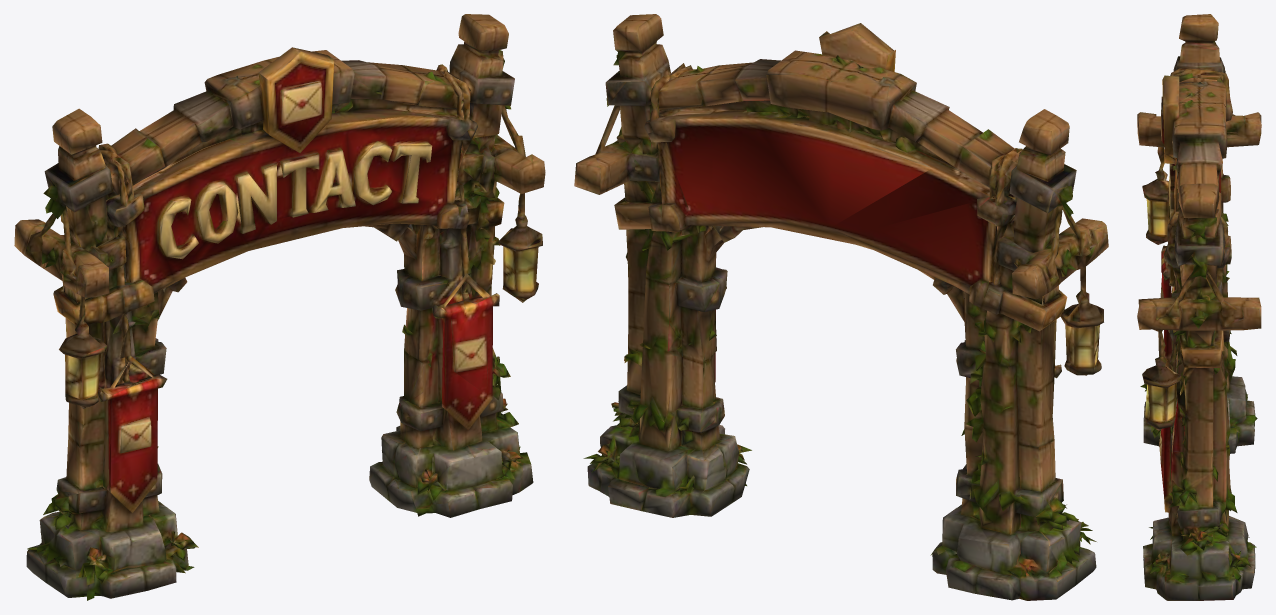
The model's file is arch-contact.glb.
3 views of the same model, side by side, from view 1: azimuth 30°, elevation 25°; view 2: azimuth 150°, elevation 25°; view 3: azimuth 270°, elevation 25° (orthographic). The views are drawn at different scales.
Visible parts, largest first — view 1: Mesh1.0; view 2: Mesh1.0; view 3: Mesh1.0.
Boxes of the visible parts, left/top/right/bottom form: Mesh1.0: left=14, top=14, right=545, bottom=600; Mesh1.0: left=574, top=14, right=1108, bottom=600; Mesh1.0: left=1137, top=14, right=1261, bottom=600.
Size of the model in its own units: 1.9 by 1.86 by 0.4911.
Materials: 1 (1 with a texture image).
